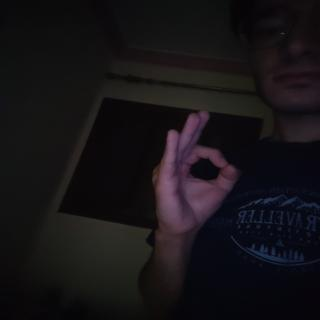Space: (146, 102, 246, 236)
